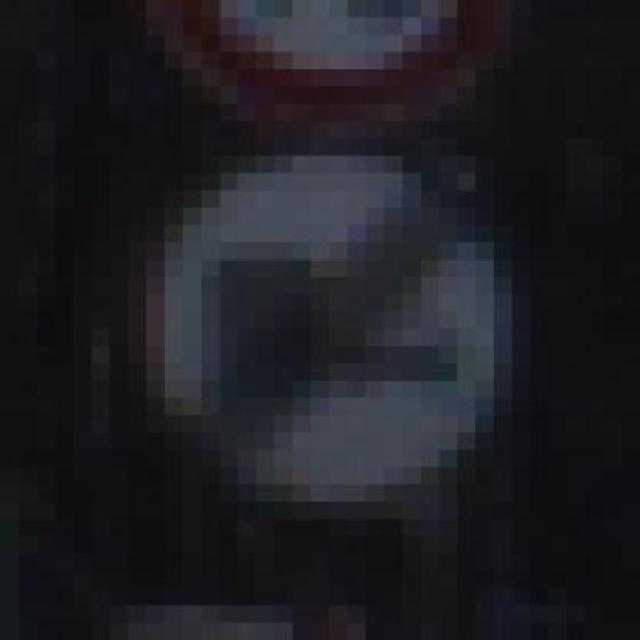Overtaking by trucks is prohibited: (54, 104, 548, 519)
